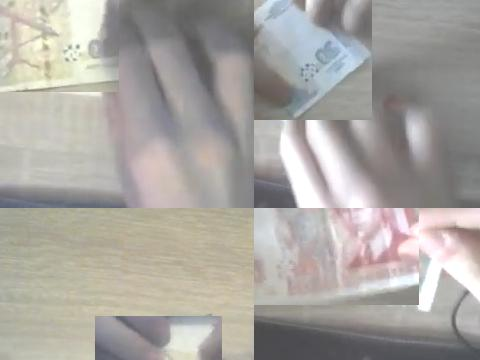20leva: (254, 0, 372, 120)
5leva: (254, 208, 419, 305)
